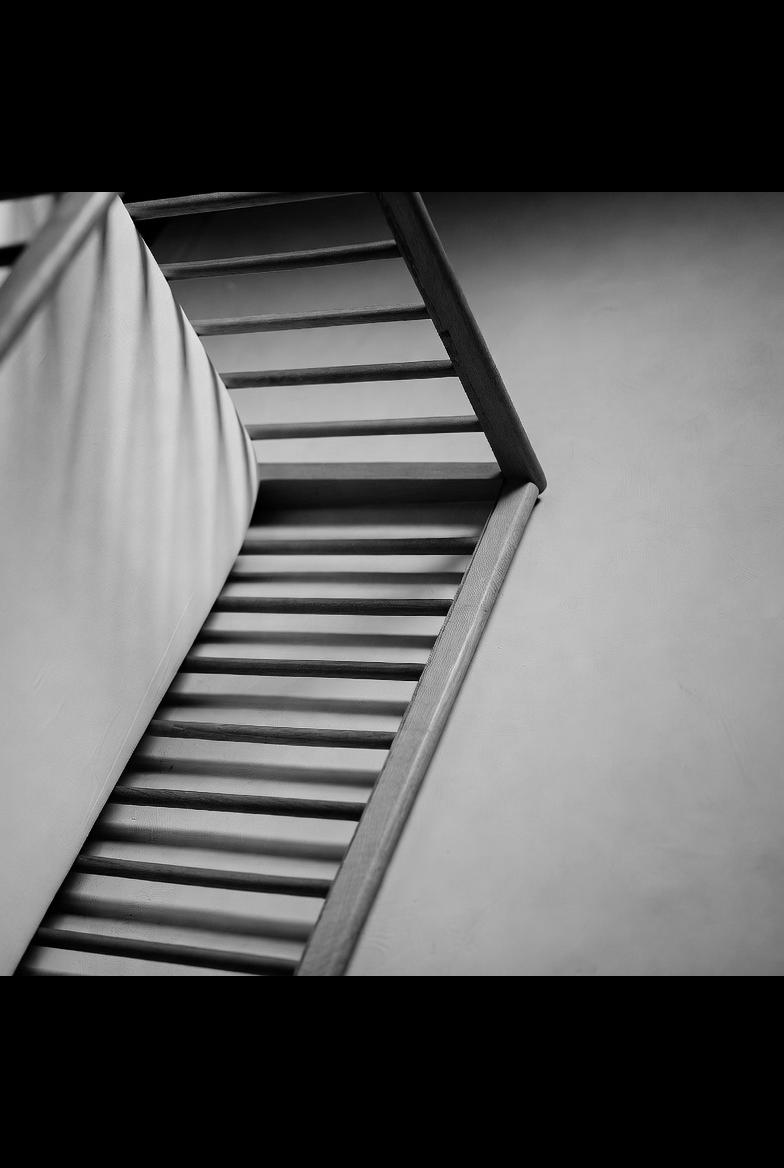crib: (0, 192, 544, 976)
